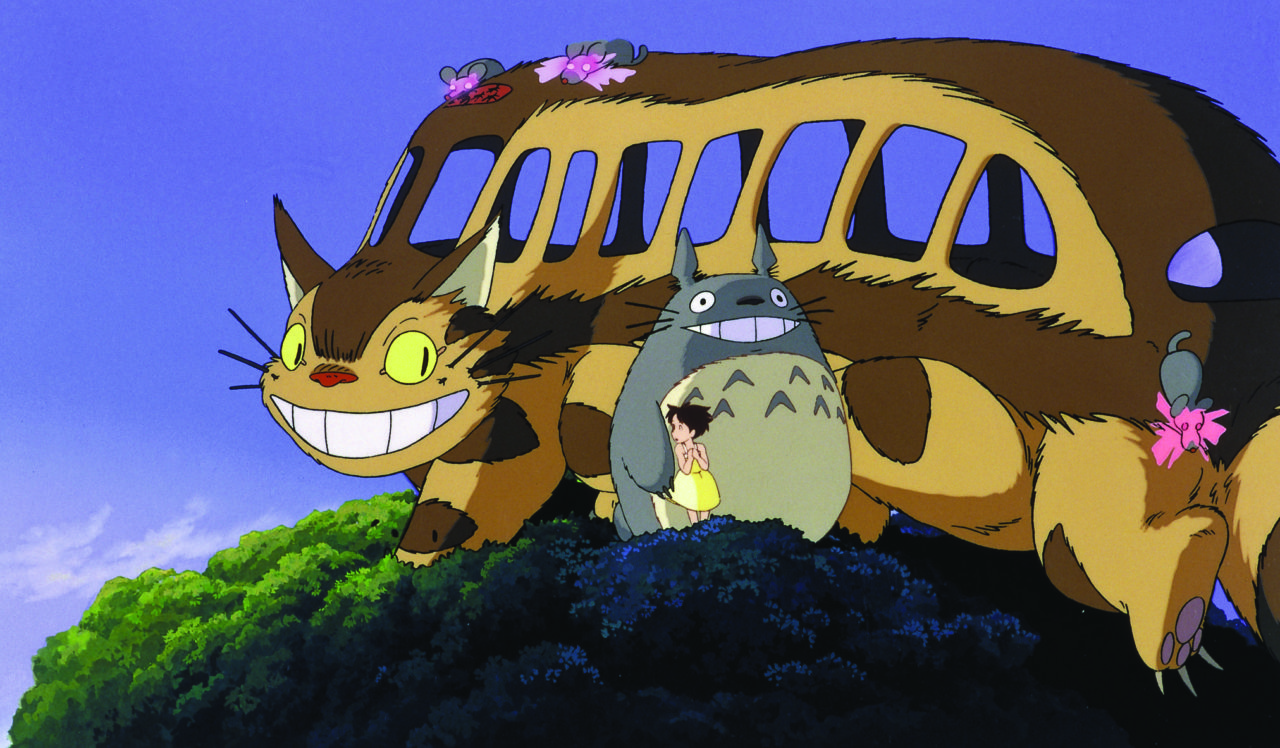Totoro: (609, 228, 854, 550)
